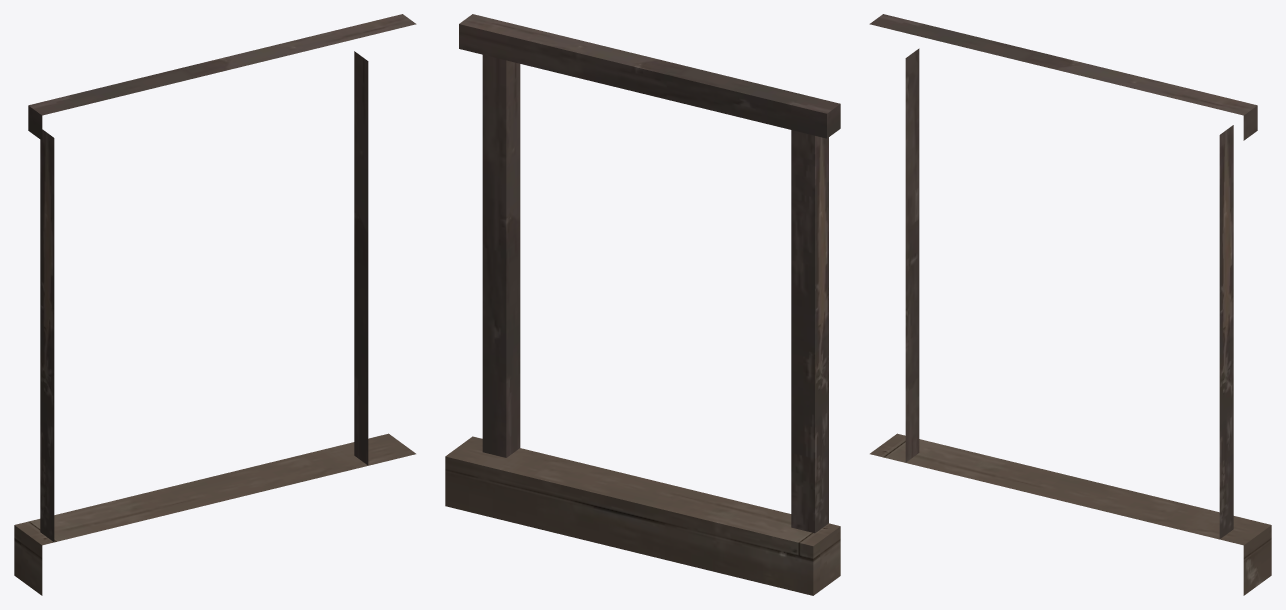
The picture shows the model from 3 angles, left to right: view 1: azimuth 30°, elevation 25°; view 2: azimuth 150°, elevation 25°; view 3: azimuth 330°, elevation 25°; orthographic projection.
Visible parts, largest first — view 1: body0_model0_lod0_mesh0, body0_model0_lod0_mesh1; view 2: body0_model0_lod0_mesh0, body0_model0_lod0_mesh1; view 3: body0_model0_lod0_mesh0, body0_model0_lod0_mesh1.
Part boxes in pixels (bbox=[...]): body0_model0_lod0_mesh0: bbox=[28, 14, 416, 541]; body0_model0_lod0_mesh1: bbox=[14, 433, 415, 595]; body0_model0_lod0_mesh0: bbox=[459, 14, 840, 533]; body0_model0_lod0_mesh1: bbox=[445, 436, 840, 595]; body0_model0_lod0_mesh0: bbox=[869, 14, 1257, 538]; body0_model0_lod0_mesh1: bbox=[870, 433, 1271, 595].
Bounding box in the file's own units: 124 × 152 × 16.
Materials: 2 (2 with a texture image).
